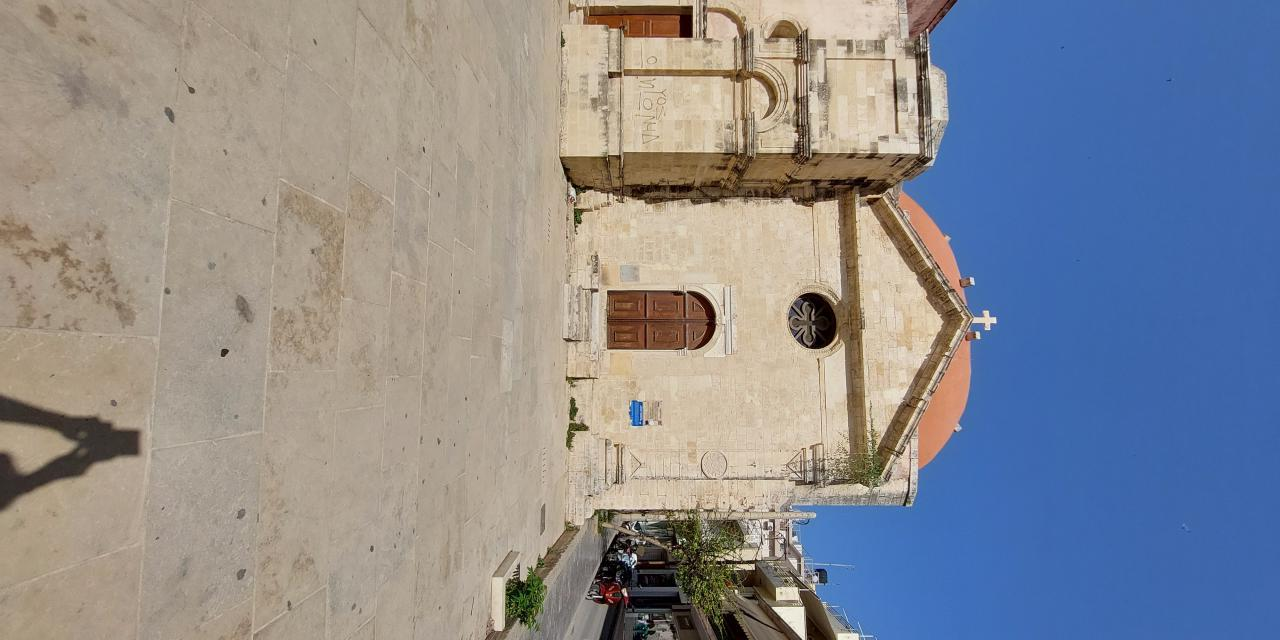Agia Aikaterini: (743, 301, 1159, 640)
